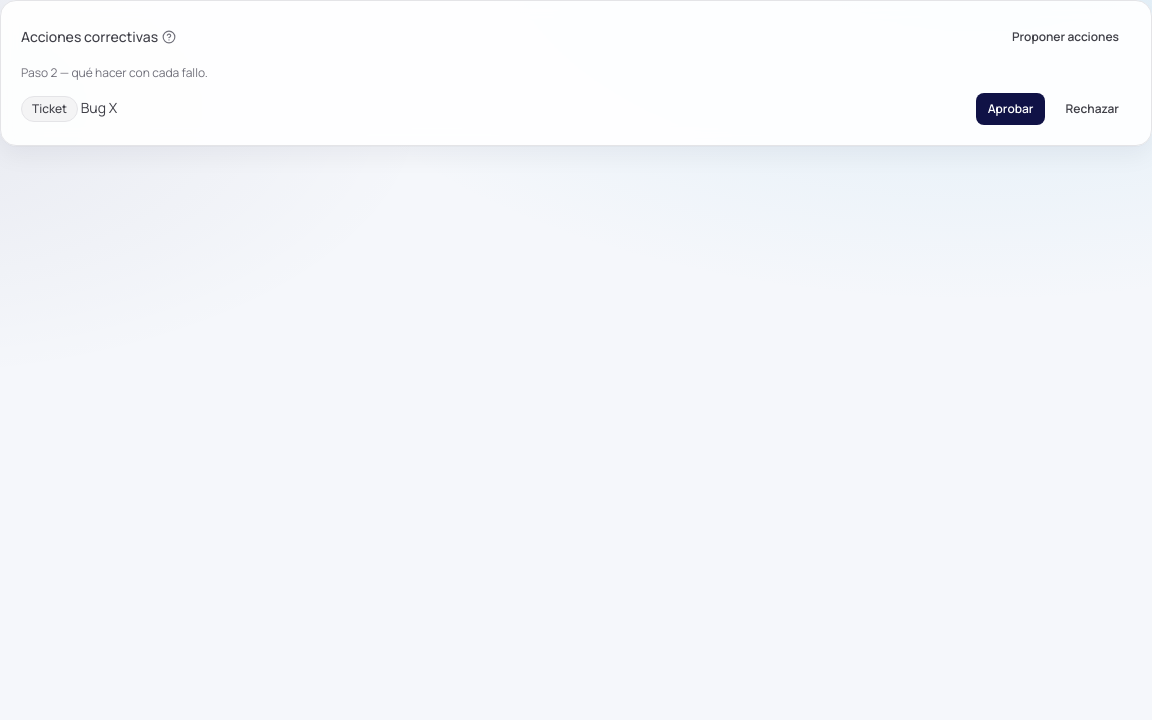
ActionsPanel › pulsar Aprobar abre el diálogo de confirmación y la mutación NO se ejecuta aún
Expected: the text "Bug X" is shown, x1=81 y1=98 x2=117 y2=117
# Click Aprobar button
Click the button "Aprobar": (1011, 109) x1=976 y1=93 x2=1046 y2=125
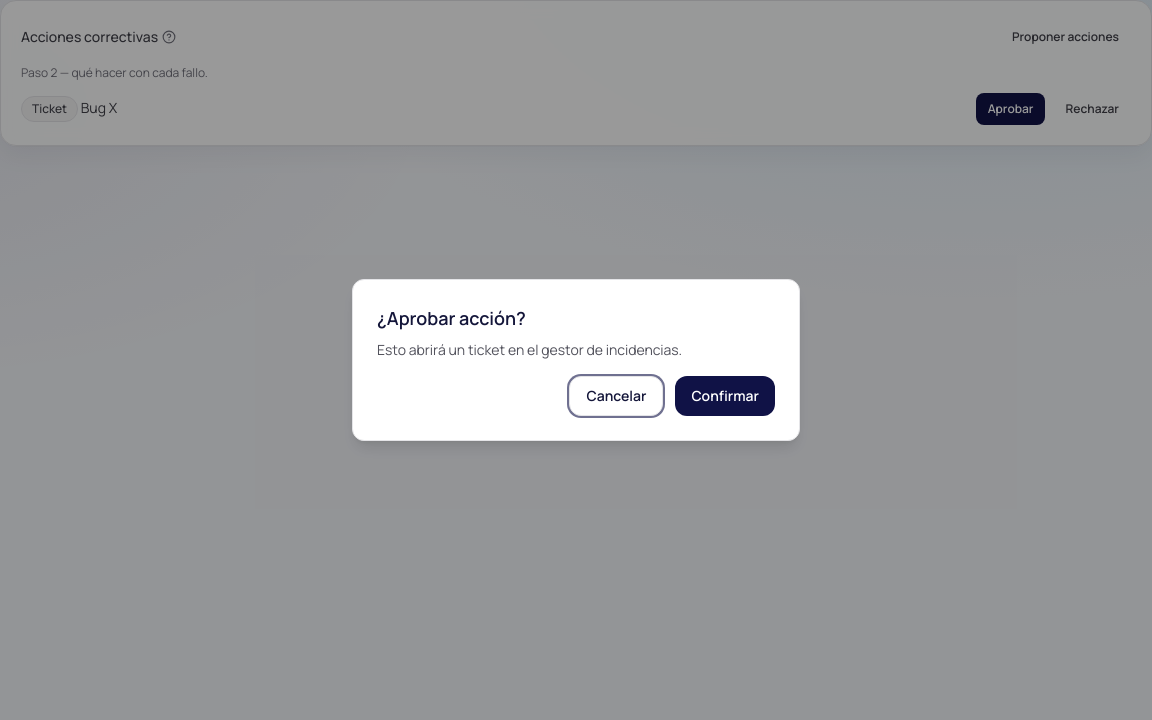
Expected: the dialog is shown, x1=352 y1=279 x2=800 y2=441
